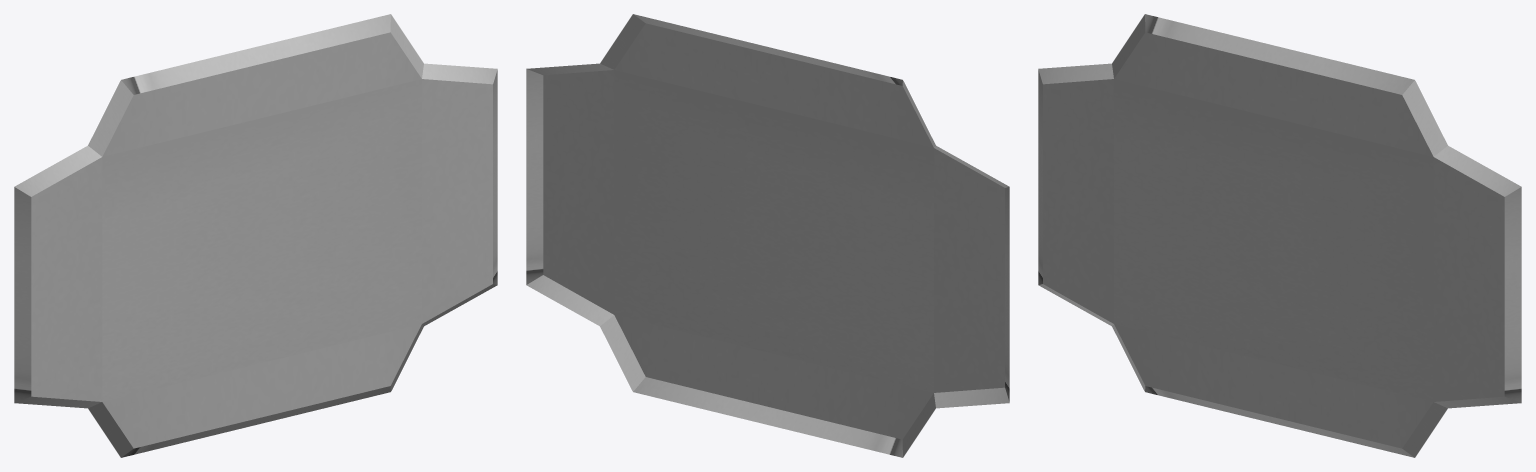
The model's file is corridorCap.FBX.
3 renders of one model, left to right at view 1: azimuth 30°, elevation 25°; view 2: azimuth 150°, elevation 25°; view 3: azimuth 330°, elevation 25°, orthographic.
Visible parts, largest first — view 1: Object001; view 2: Object001; view 3: Object001.
Part boxes in pixels (<box>): Object001: <box>14,14,497,457</box>; Object001: <box>526,14,1009,457</box>; Object001: <box>1038,14,1521,457</box>.
Size of the model in its own units: 14.4 by 0.3182 by 10.76.
